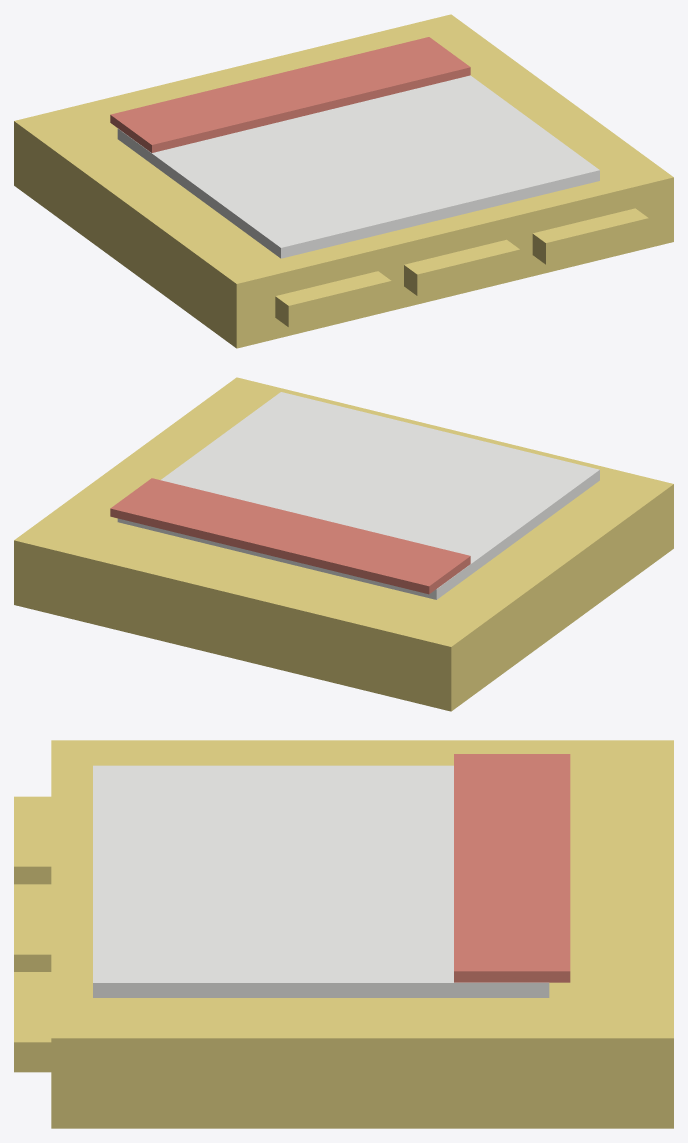
Rendered from item_36_cartridge.glb.
3 renders of one model, top to bottom at view 1: azimuth 30°, elevation 25°; view 2: azimuth 150°, elevation 25°; view 3: azimuth 270°, elevation 25°, orthographic. The views are drawn at different scales.
Parts seen in each view (by area): view 1: Cart_Shell, Cart_Label, Cart_Stripe, Cart_Grip0, Cart_Grip2, Cart_Grip1; view 2: Cart_Shell, Cart_Label, Cart_Stripe; view 3: Cart_Shell, Cart_Label, Cart_Stripe, Cart_Grip2, Cart_Grip0, Cart_Grip1.
Boxes of the visible parts, x1=… form: Cart_Shell: x1=14, y1=14, x2=673, y2=348; Cart_Label: x1=117, y1=75, x2=599, y2=258; Cart_Stripe: x1=110, y1=37, x2=470, y2=152; Cart_Grip0: x1=275, y1=271, x2=391, y2=327; Cart_Grip2: x1=532, y1=208, x2=648, y2=264; Cart_Grip1: x1=404, y1=239, x2=520, y2=295; Cart_Shell: x1=14, y1=377, x2=673, y2=711; Cart_Label: x1=117, y1=392, x2=599, y2=599; Cart_Stripe: x1=110, y1=478, x2=470, y2=594; Cart_Shell: x1=51, y1=740, x2=673, y2=1128; Cart_Label: x1=93, y1=765, x2=549, y2=997; Cart_Stripe: x1=454, y1=754, x2=570, y2=982; Cart_Grip2: x1=14, y1=972, x2=51, y2=1072; Cart_Grip0: x1=14, y1=796, x2=51, y2=884; Cart_Grip1: x1=14, y1=884, x2=51, y2=971.
Bounding box in the file's own units: 0.085 × 0.0156 × 0.0795.
